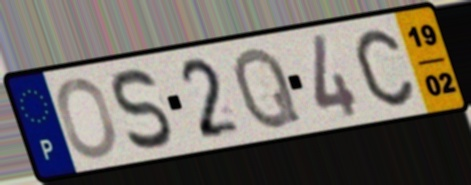2: (178, 55, 244, 141)
4: (309, 29, 362, 123)
C: (352, 26, 417, 109)
O: (54, 75, 120, 161)
Q: (230, 43, 305, 133)
S: (110, 65, 176, 153)
